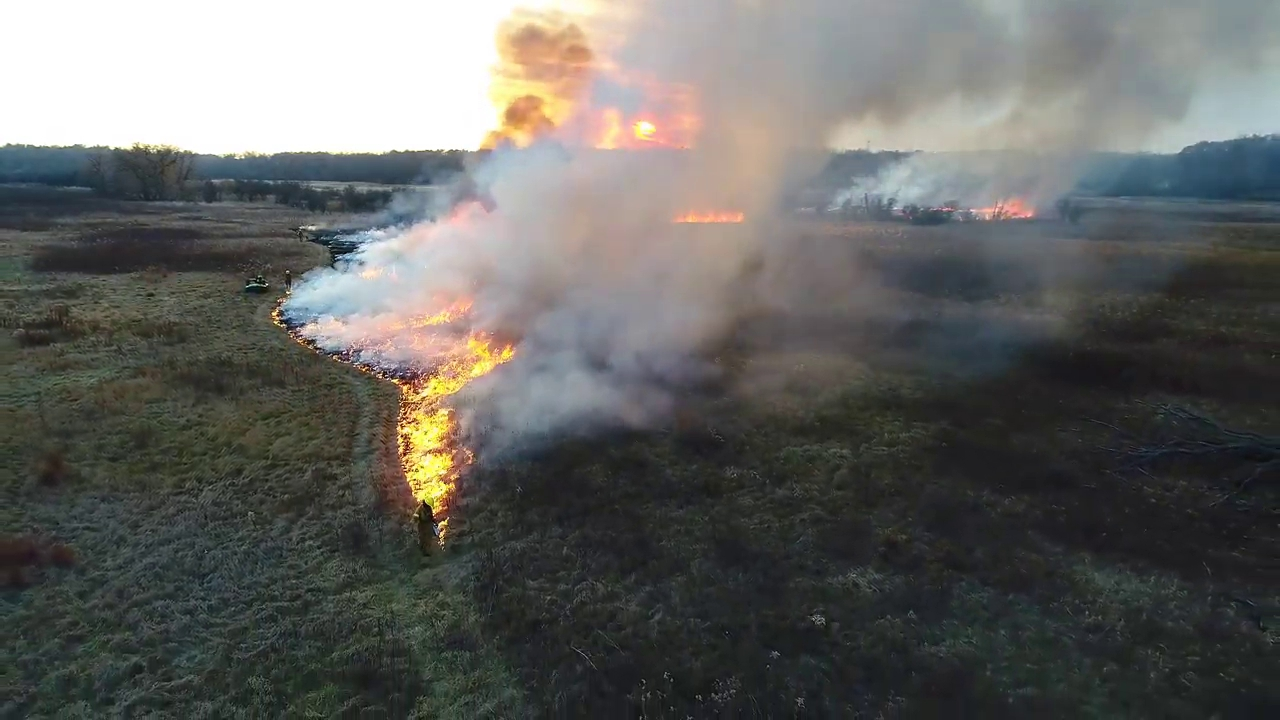forest_fire: (271, 299, 514, 536), (929, 198, 1036, 220), (673, 210, 744, 223)
